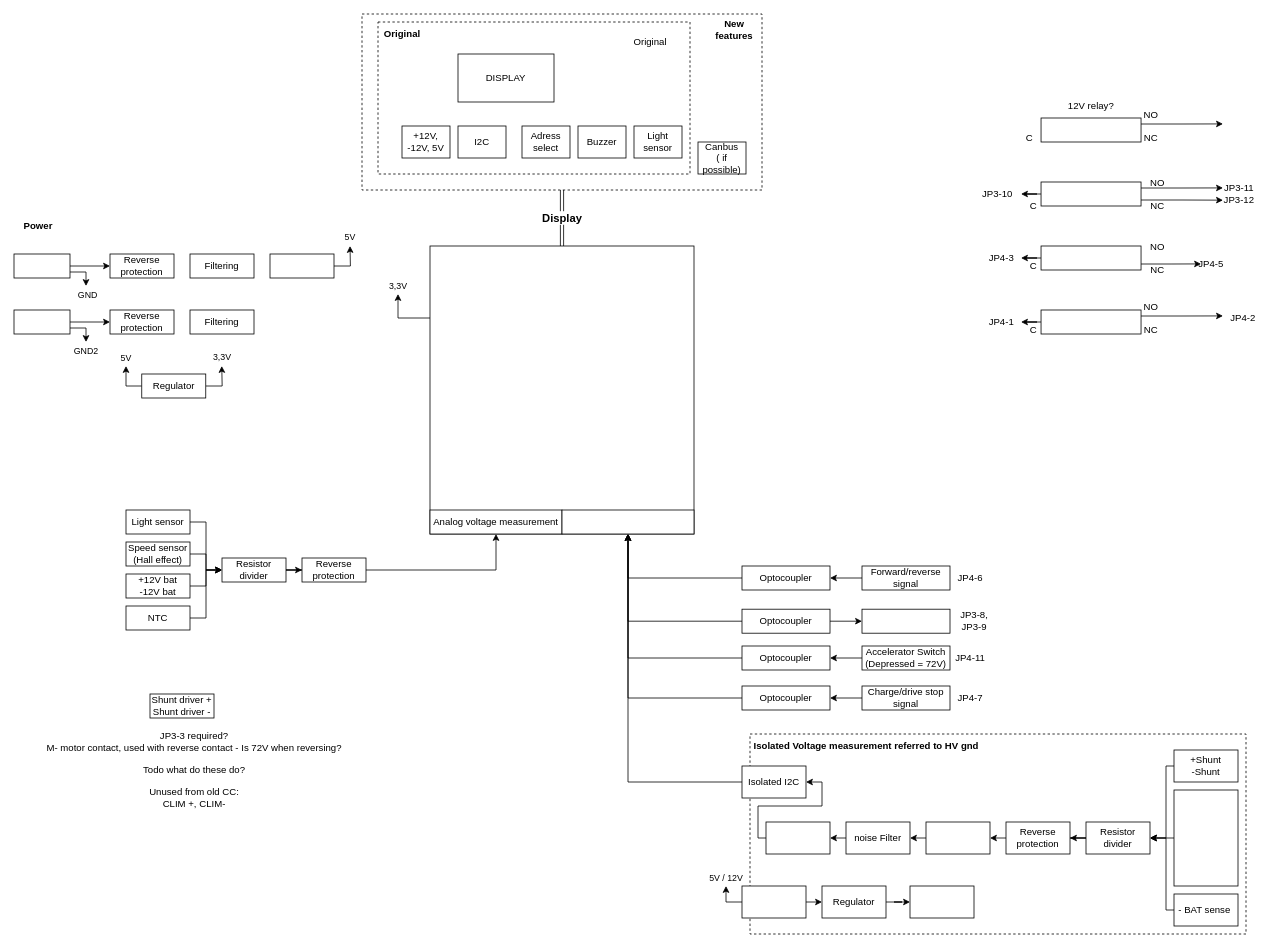
Image size: 1277x948. Some labels were removed from this diagram. Here are the shapes that lost their labels. From the top down, the box of each, then its label:
(1040, 117, 1141, 142): Relay K2 Motorcontroller on/off
(1040, 181, 1141, 206): Relay K1 Forward / reverse
(13, 253, 70, 278): +8 / 12V
(269, 253, 334, 278): DC-DC
(1040, 245, 1141, 270): Relay K4 CUT-oFF
(13, 309, 70, 334): +72V
(1040, 309, 1141, 334): Relay K3 Motorcontroller on/off
(429, 245, 694, 534): MCU
(561, 509, 694, 534): Digital signals
(861, 608, 950, 633): DCDC on/off 5V
(765, 821, 830, 854): ADC
(925, 821, 990, 854): Mux
(1173, 789, 1238, 886): + BAT sense 1/2 3/4 5/6 7/8 9/10 11/12
(741, 885, 806, 918): Isolated DC-DC
(909, 885, 974, 918): Vref
